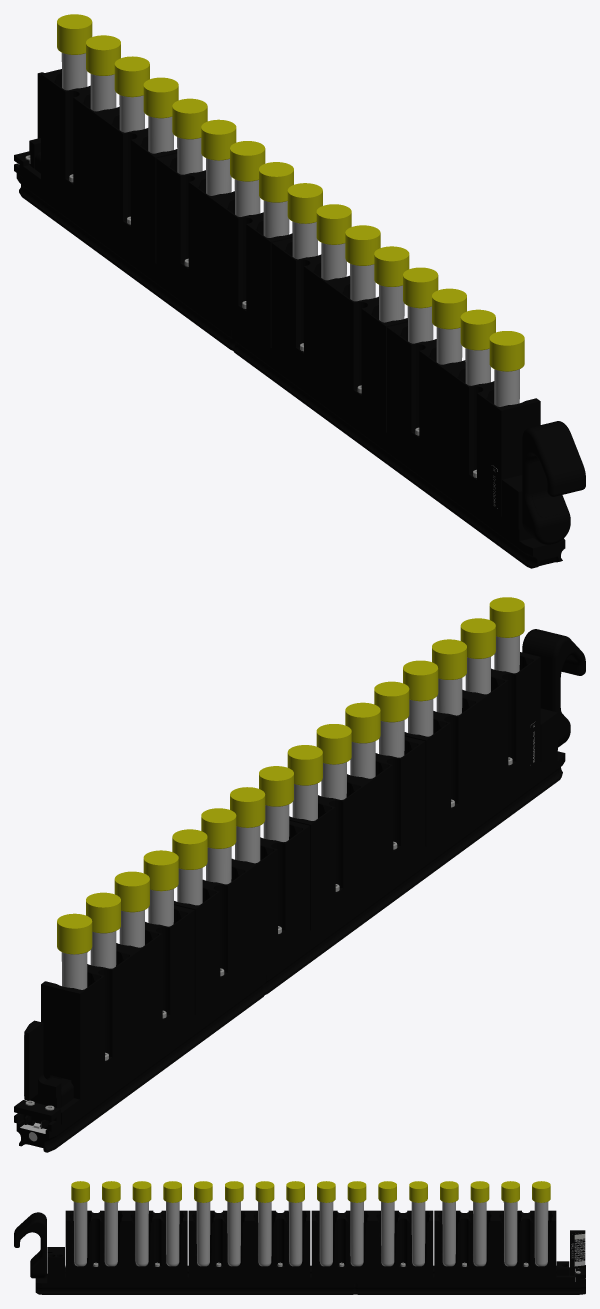
The model's file is 16x_QFT.gltf.
3 renders of one model, top to bottom at view 1: azimuth 30°, elevation 25°; view 2: azimuth 150°, elevation 25°; view 3: azimuth 270°, elevation 25°, orthographic. The views are drawn at different scales.
Visible parts, largest first — view 1: Frame_body__34_0_node, Frame_body__32_0, Frame_body__32_0_node; view 2: Frame_body__34_0_node, Frame_body__32_0, Frame_body__32_0_node; view 3: Frame_body__34_0_node, Frame_body__32_0_node, Frame_body__32_0, Frame_body__34_0, Frame_body__34_0_node_0.
Boxes of the visible parts, box(x1,y1,x2,y2) form: Frame_body__34_0_node: box(14, 69, 585, 568); Frame_body__32_0: box(57, 14, 524, 371); Frame_body__32_0_node: box(61, 53, 519, 406); Frame_body__34_0_node: box(14, 629, 585, 1152); Frame_body__32_0: box(57, 597, 524, 954); Frame_body__32_0_node: box(61, 635, 519, 989); Frame_body__34_0_node: box(14, 1210, 585, 1294); Frame_body__32_0_node: box(73, 1201, 548, 1266); Frame_body__32_0: box(71, 1181, 550, 1202); Frame_body__34_0: box(571, 1239, 585, 1281); Frame_body__34_0_node_0: box(93, 1262, 580, 1273).
Bounding box in the file's own units: 22.1 × 106 × 519.
